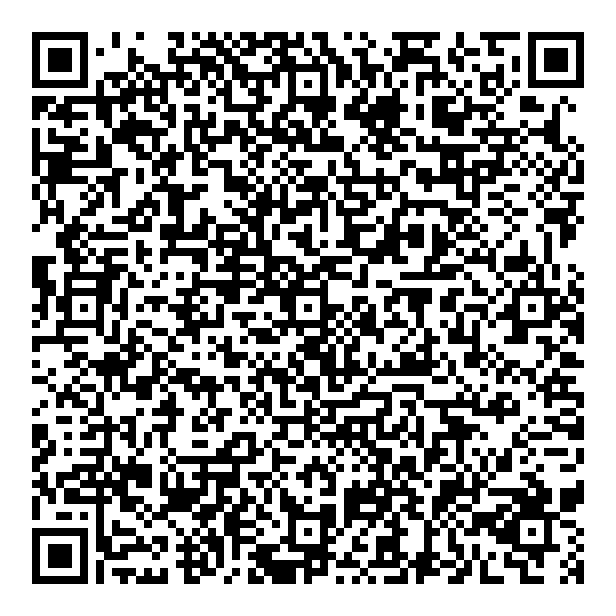QR_CODE: (22, 16, 593, 596)
